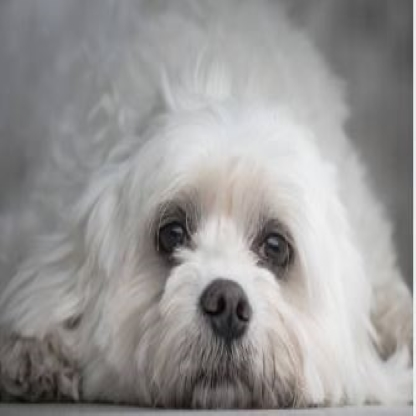maltese: (6, 82, 395, 407)
